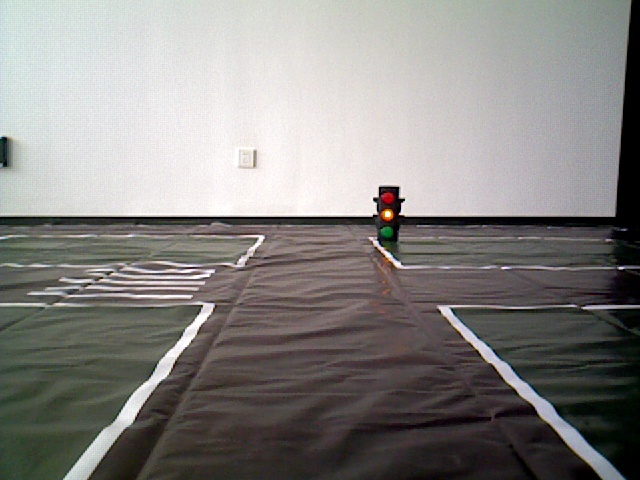yellow: (374, 185, 403, 242)
